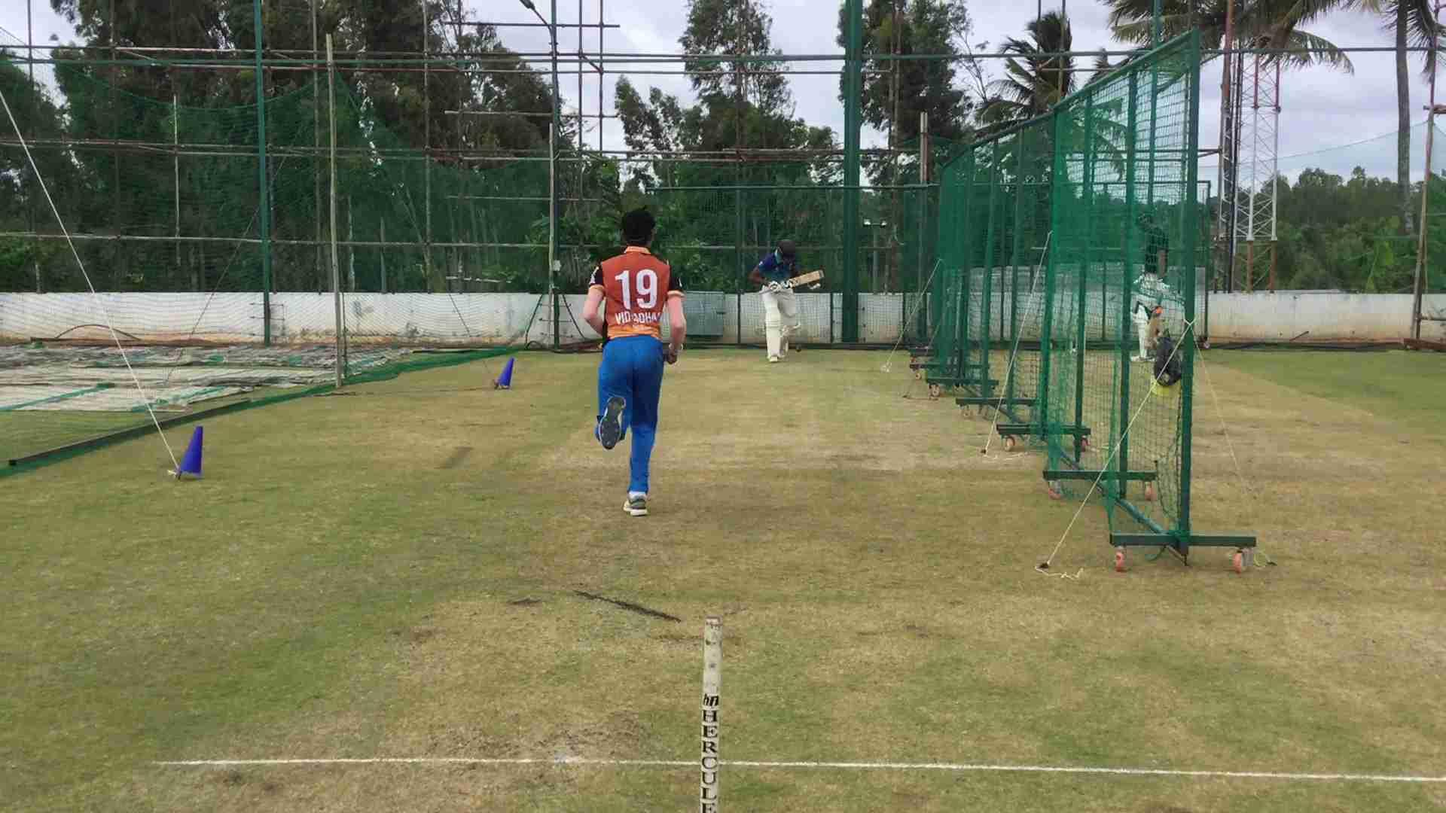batsman: (743, 230, 805, 366)
